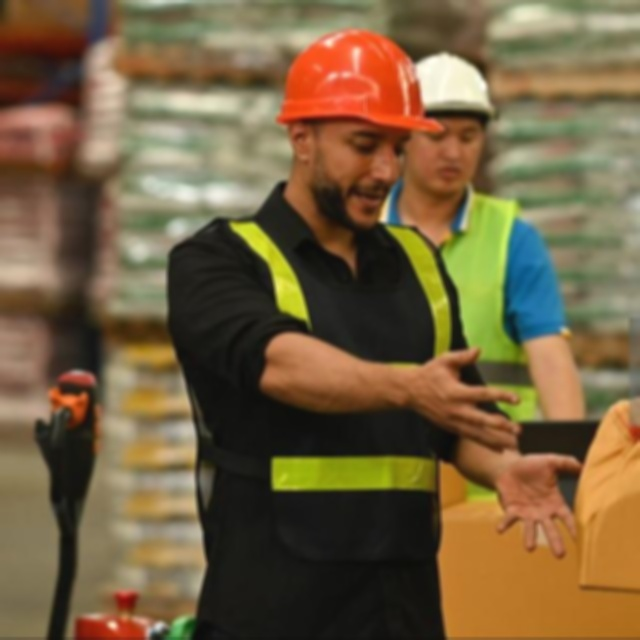Con_Chaleco: (168, 210, 460, 514)
